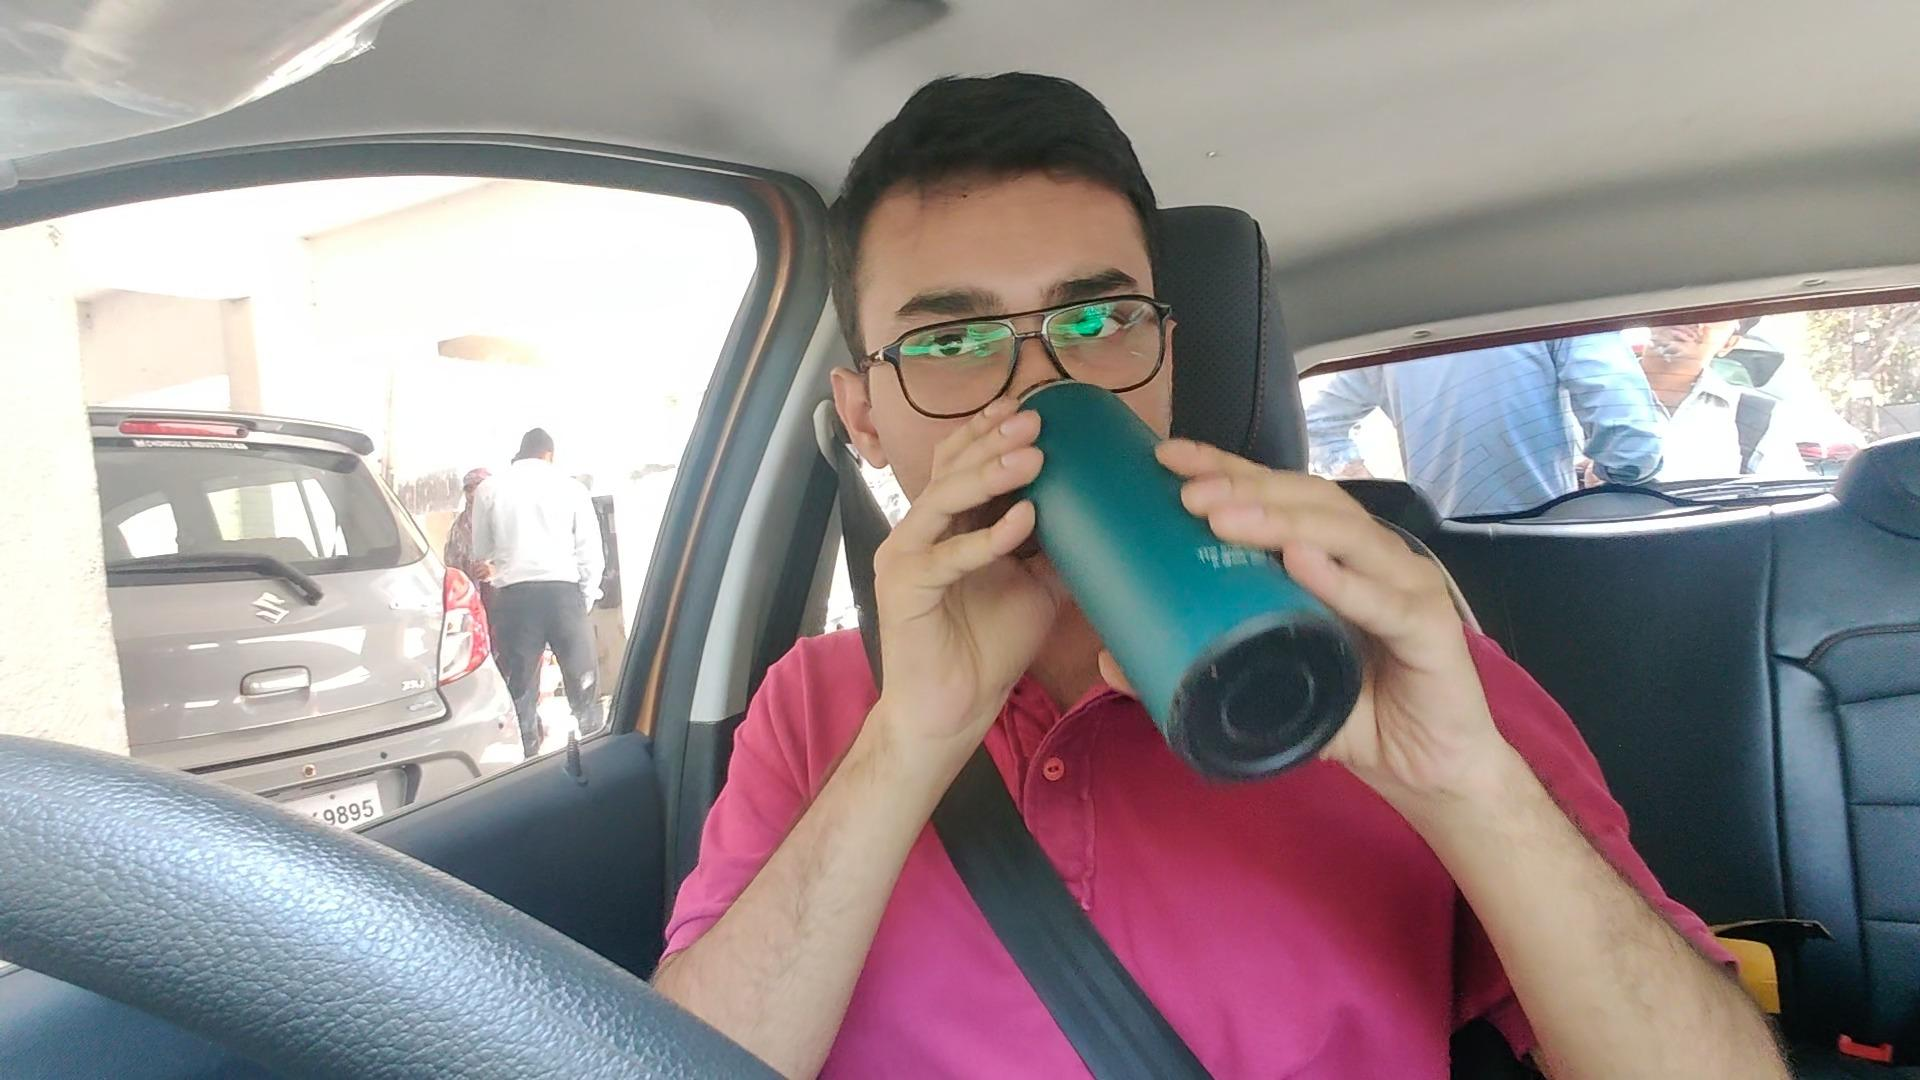Drinking: (828, 71, 1435, 782)
